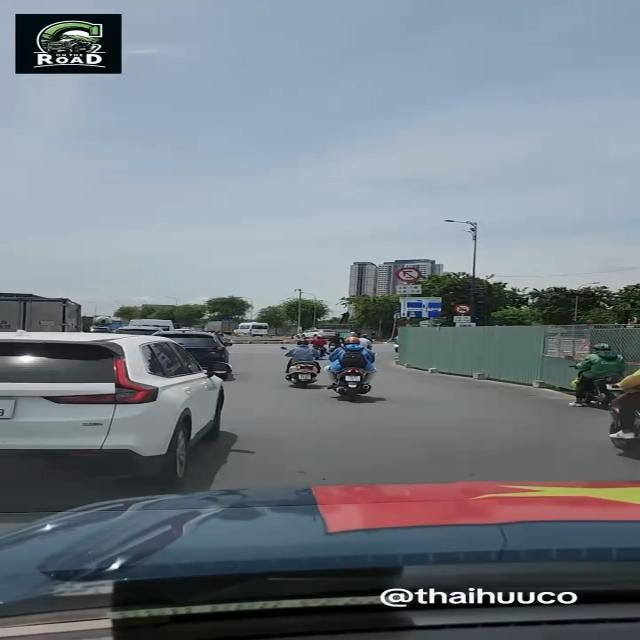103a-cam-oto: (456, 304, 470, 314)
123b-cam-re-phai: (396, 268, 420, 282)
